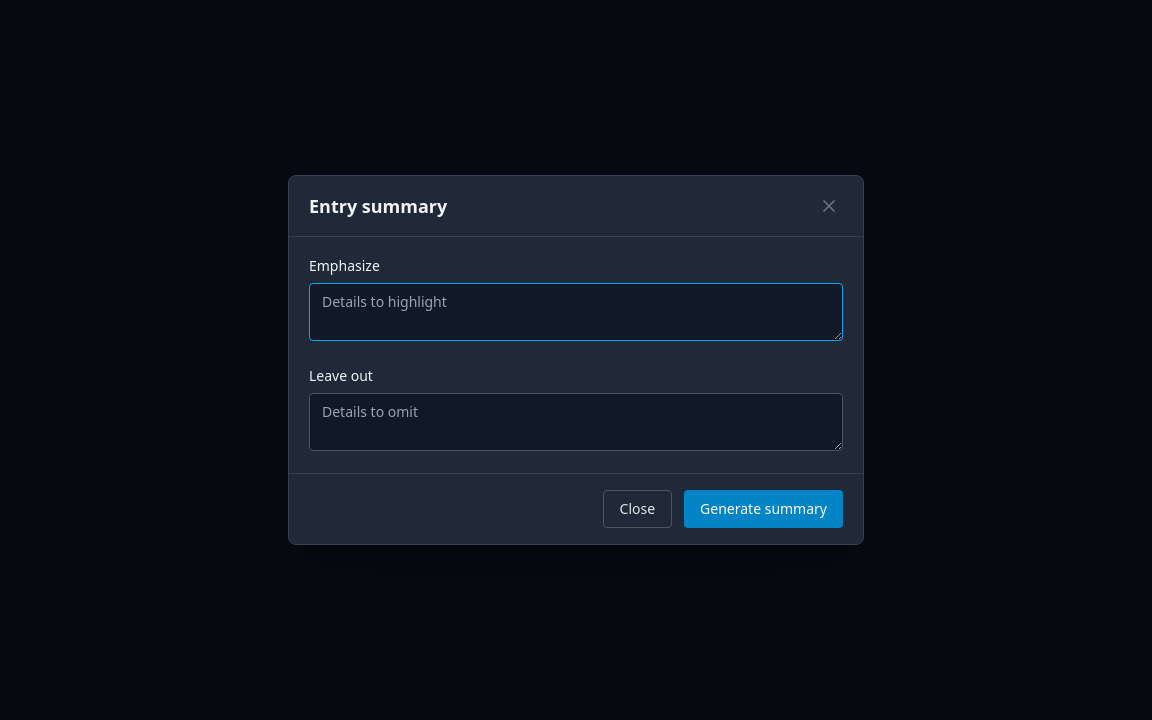
Scenario: EntrySummaryDialog › generates, regenerates, and copies a guided summary
In the text box labelled "Emphasize": (576, 312) [309,283,843,341], type "the decision"
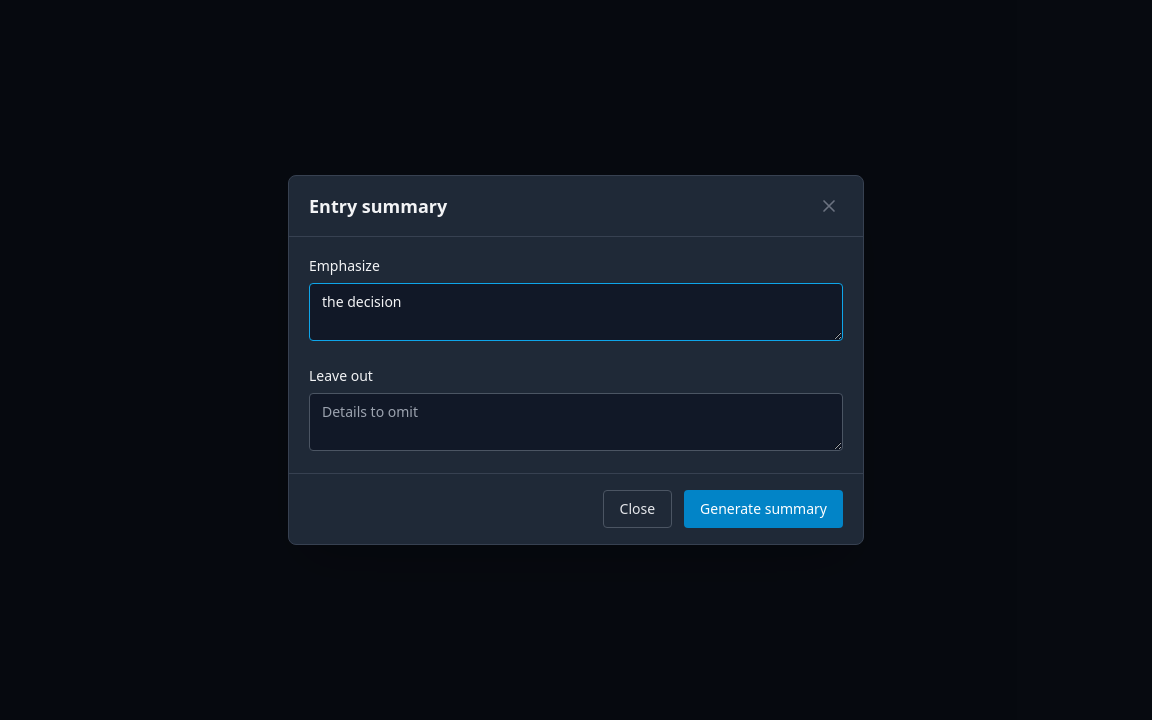
In the text box labelled "Leave out": (576, 422) [309,393,843,451], type "names"
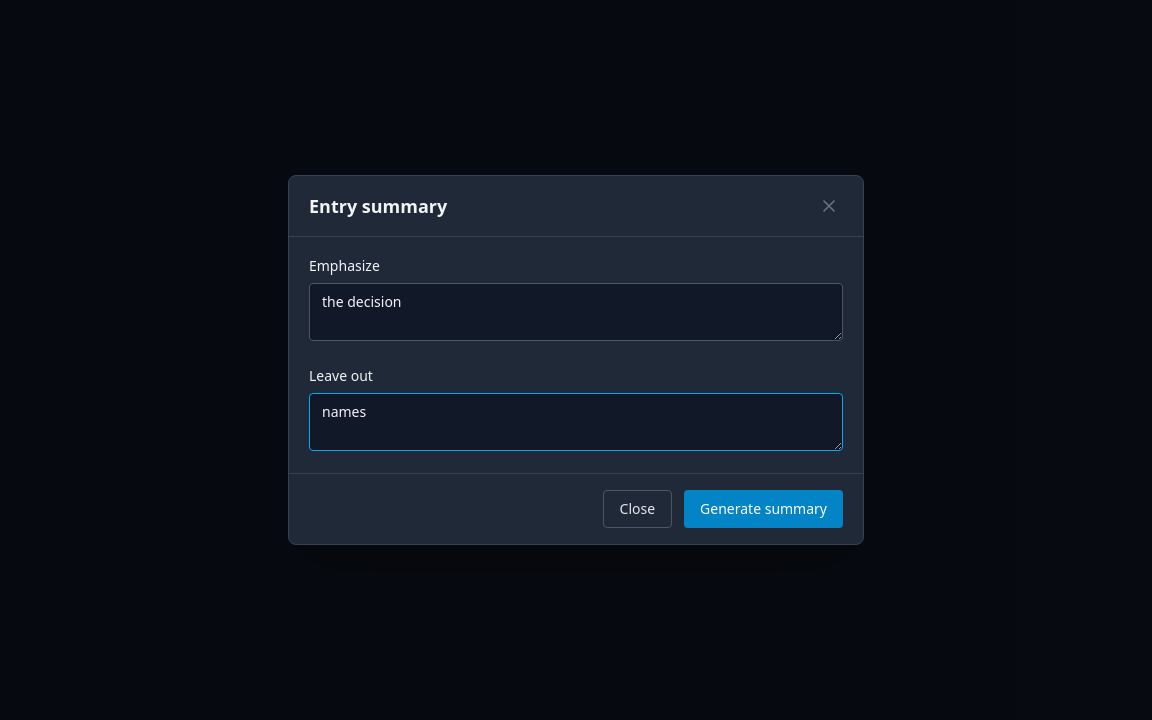
Click the button "Generate summary": (764, 509) [684,490,843,528]
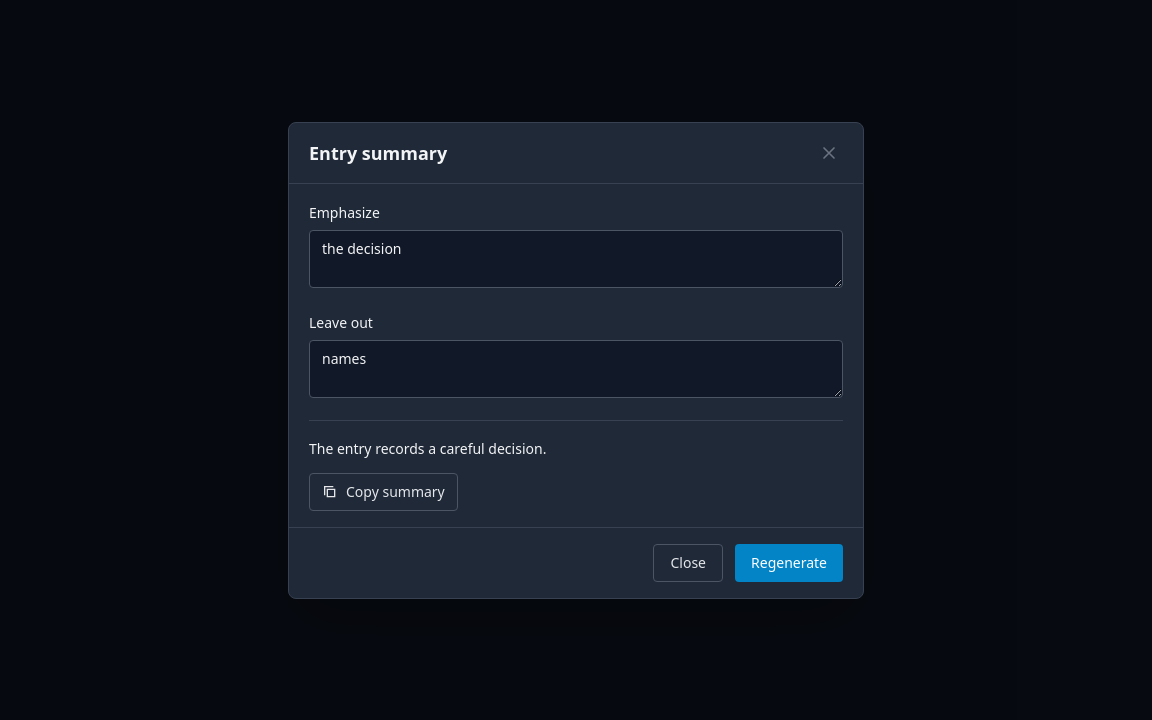
Result: the text "The entry records a careful decision." is shown at [309,438,546,458]
Click the button "Copy summary": (383, 492) [309,472,458,510]
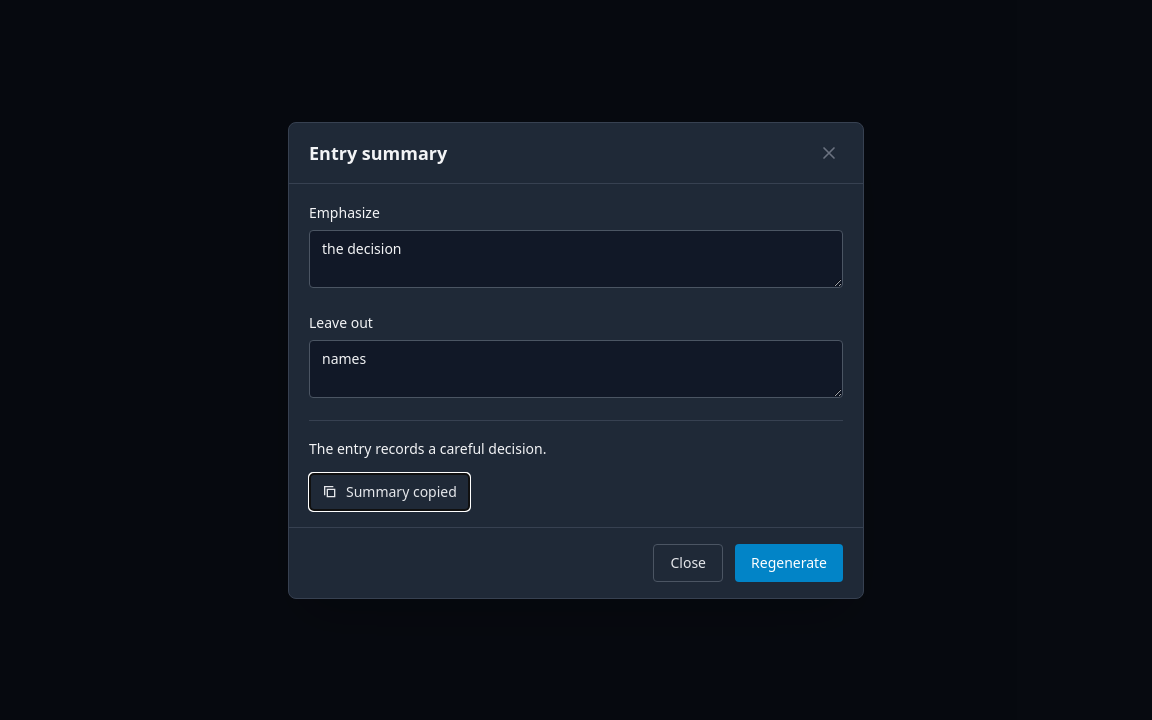
Result: the button "Summary copied" is shown at [309,472,470,510]
Click the button "Regenerate": (789, 562) [735,544,843,582]
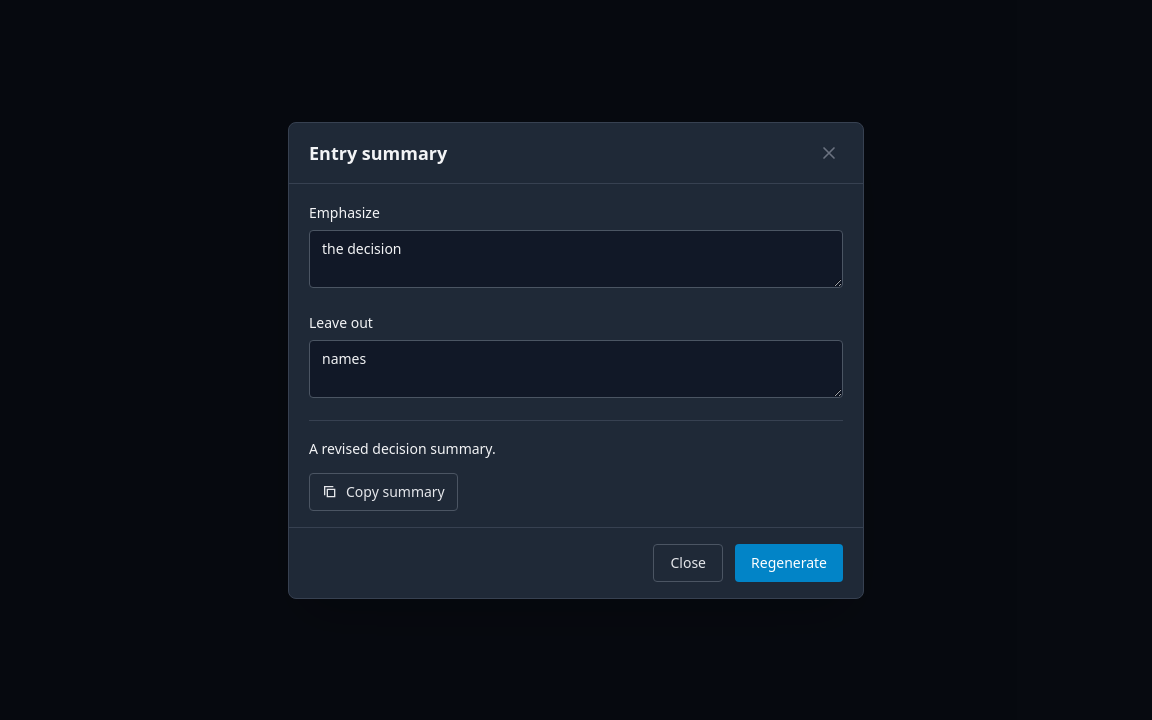
Result: the text "A revised decision summary." is shown at [309,438,496,458]
